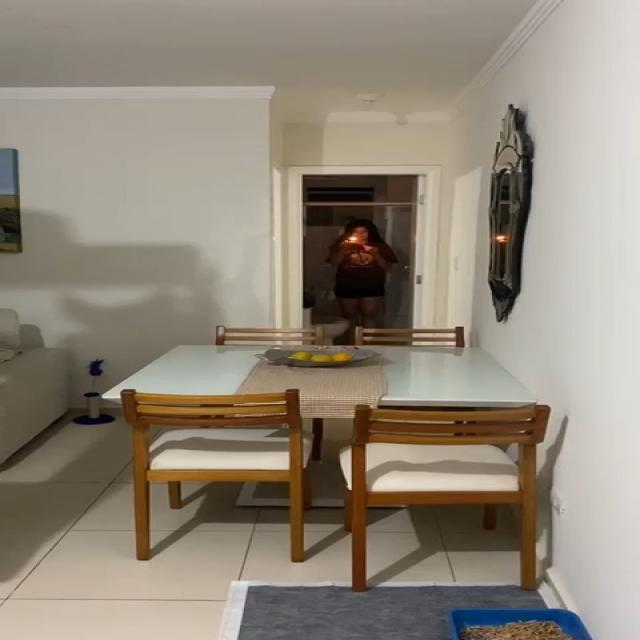fogo-ypXI: (344, 236, 361, 244)
